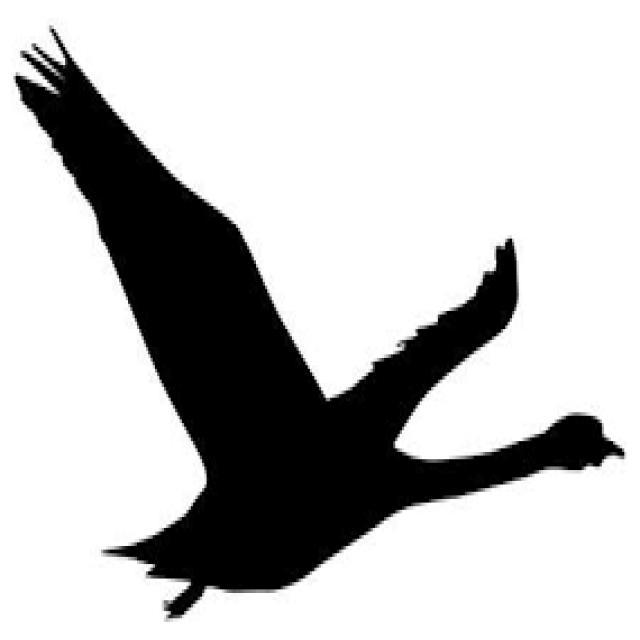bird: (6, 7, 626, 597)
